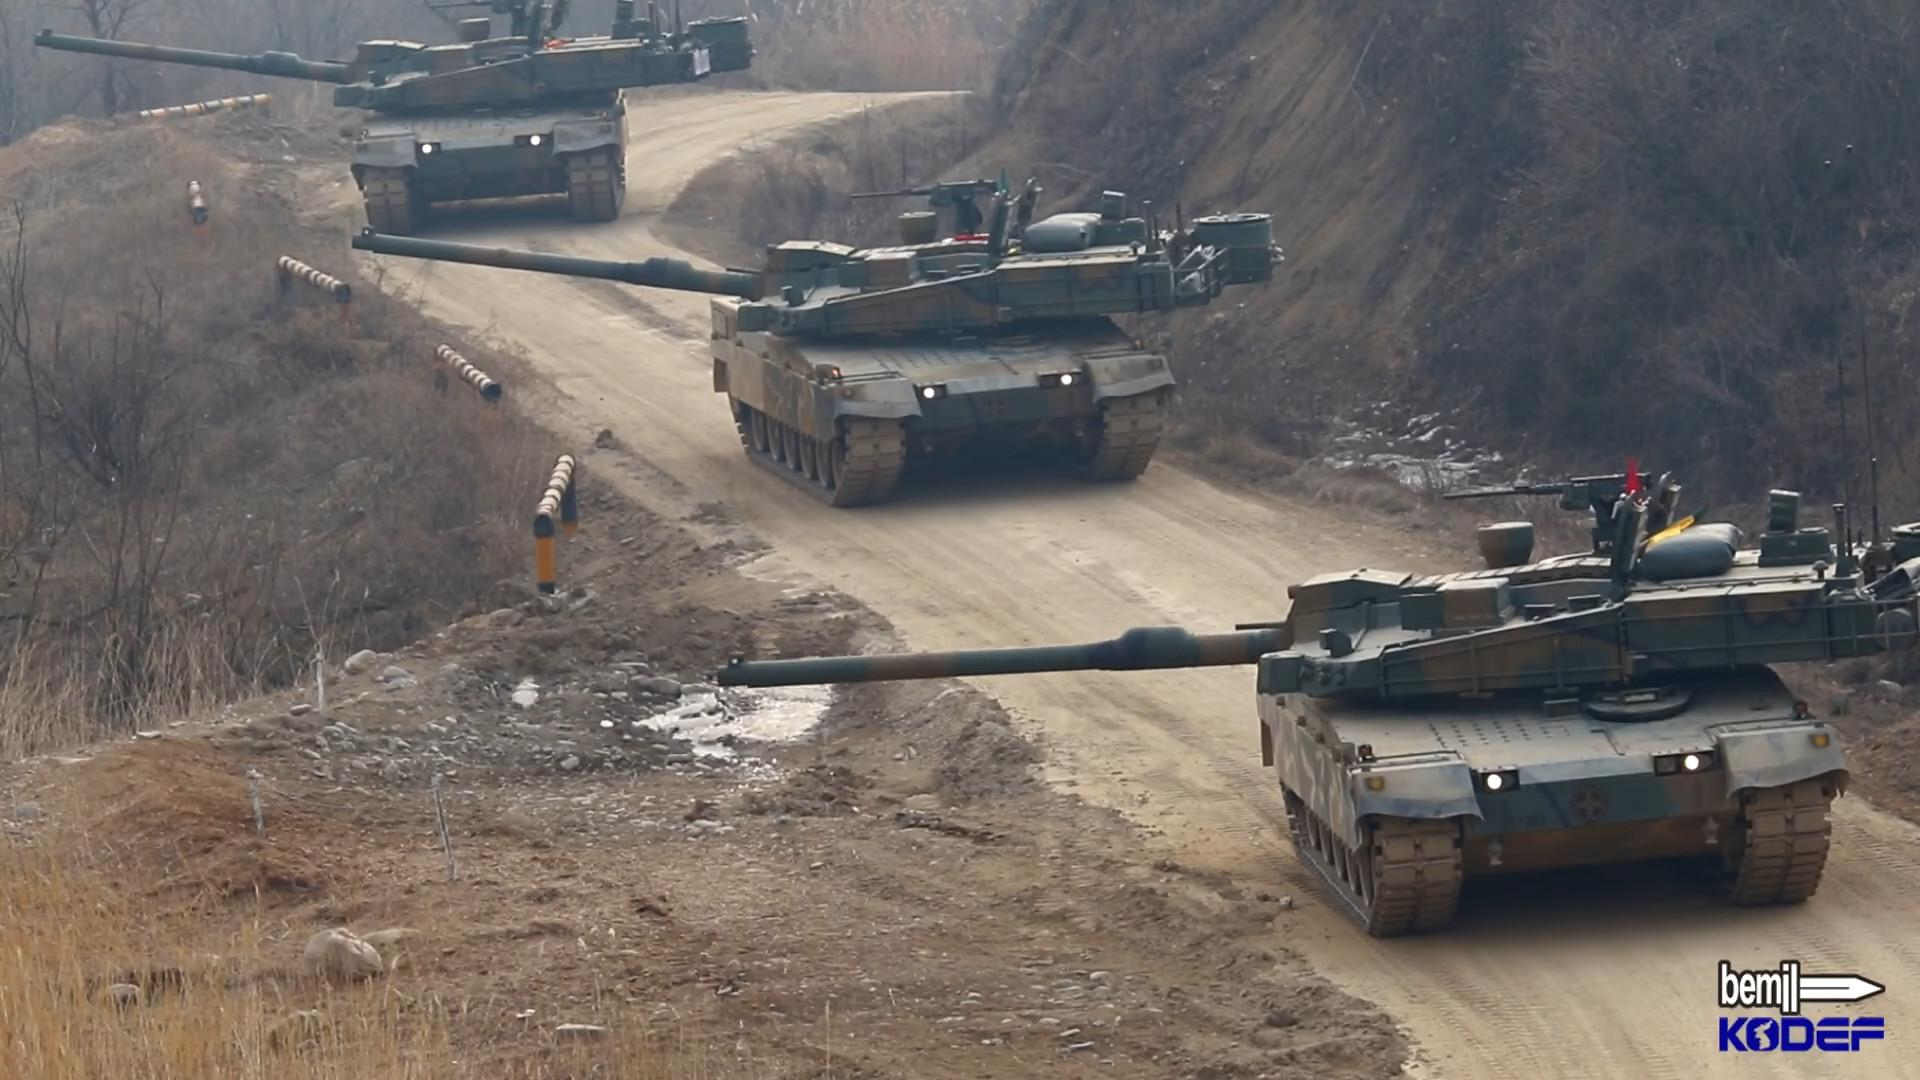tank: (717, 471, 1919, 938), (352, 177, 1271, 508), (36, 0, 754, 235)
